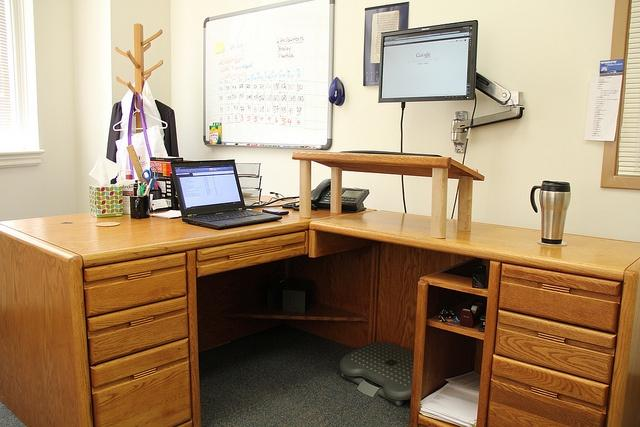AIO PC-Monitor-TV: (376, 18, 478, 103)
Meja: (1, 194, 378, 317), (309, 207, 639, 333)
Whiteboard: (201, 0, 334, 149)
